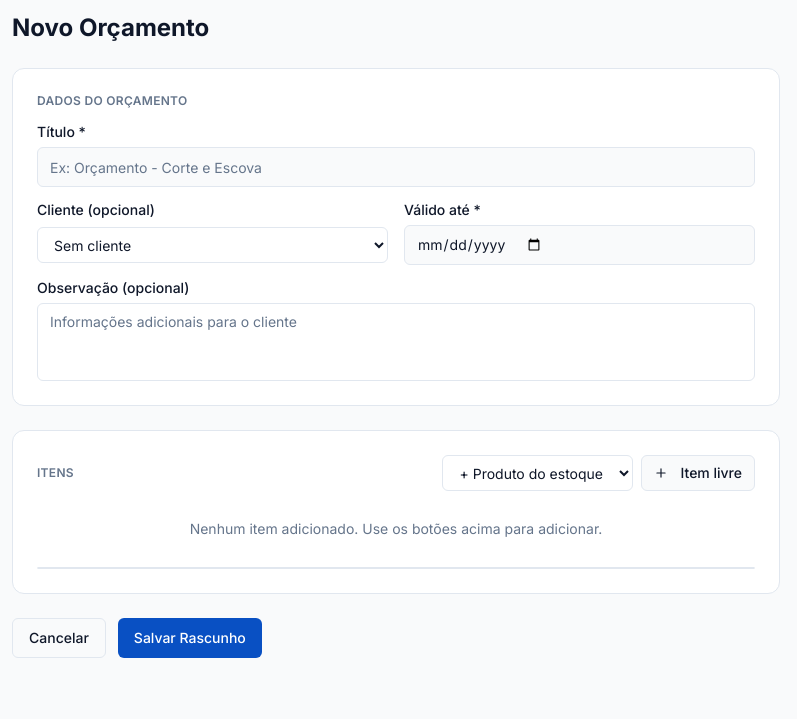
Scenario: NovoOrcamento form › mostra erro ao tentar salvar sem título
Click the button "Salvar Rascunho".
click(190, 638)  # box [118,618,262,658]
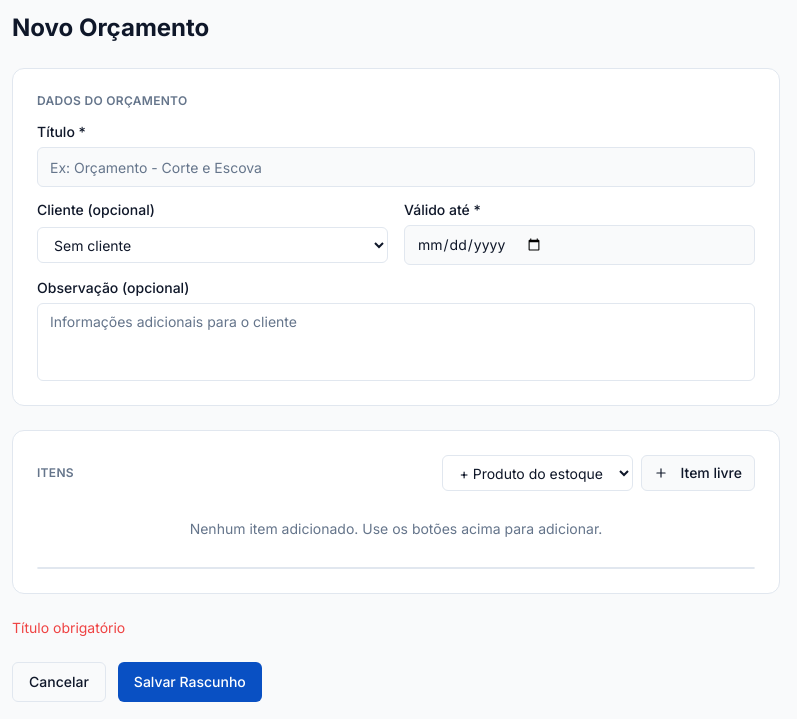
Check: the text "Título obrigatório" is shown, box [12,619,125,636]
